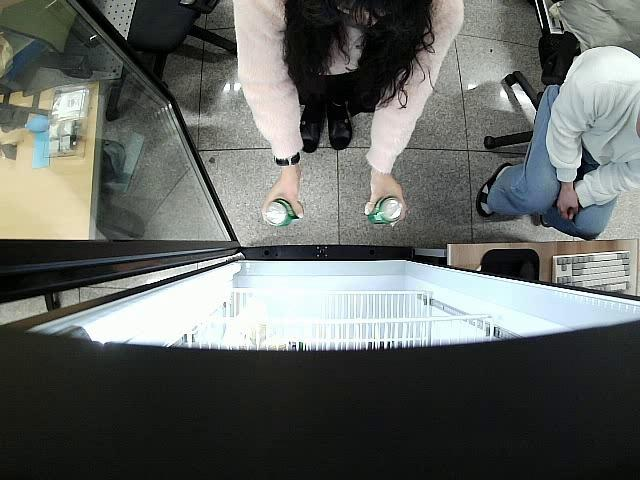12_chilsungCider: (266, 198, 304, 228), (368, 196, 403, 226)
